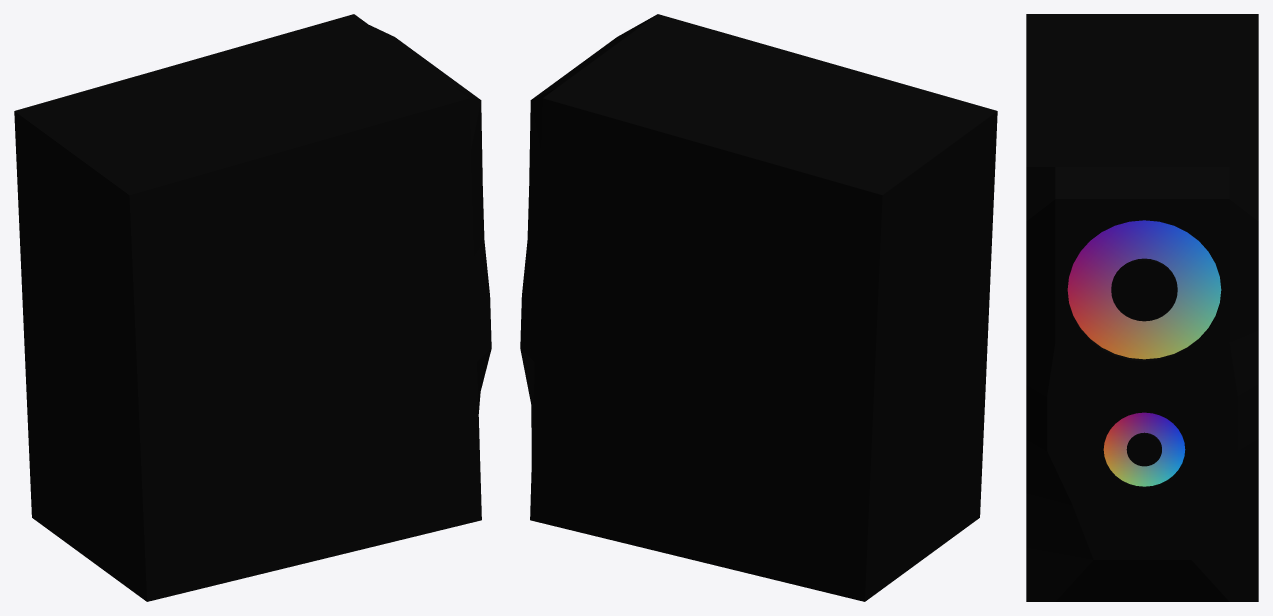
File: fan_right.glb
3 renders of one model, left to right at view 1: azimuth 30°, elevation 25°; view 2: azimuth 150°, elevation 25°; view 3: azimuth 270°, elevation 25°, orthographic.
Visible parts, largest first — view 1: Cube.044; view 2: Cube.044; view 3: Cube.044, Cylinder.003, Cylinder.004.
Part boxes in pixels (x1,y1,x2,y2): Cube.044: (14,14,491,601); Cube.044: (520,14,997,601); Cube.044: (1026,14,1258,601); Cylinder.003: (1067,220,1221,359); Cylinder.004: (1103,412,1185,486).
Size of the model in its own units: 1.1 by 1.19 by 0.5856.
2 materials, 1 textured.
